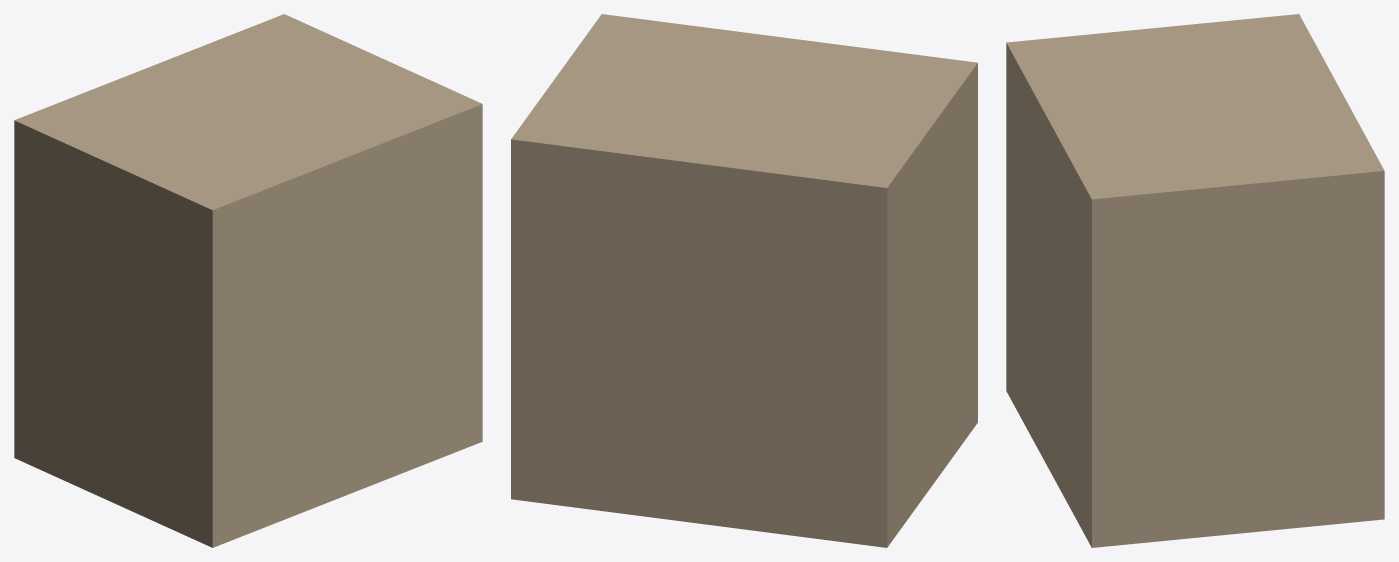
Rendered from bld_107625362.dae.
The picture shows the model from 3 angles, left to right: view 1: azimuth 30°, elevation 25°; view 2: azimuth 150°, elevation 25°; view 3: azimuth 270°, elevation 25°; orthographic projection. The views are drawn at different scales.
Visible parts, largest first — view 1: bld_107625362; view 2: bld_107625362; view 3: bld_107625362.
Boxes of the visible parts, x1=… form: bld_107625362: x1=14, y1=14, x2=482, y2=547; bld_107625362: x1=511, y1=14, x2=977, y2=547; bld_107625362: x1=1006, y1=14, x2=1384, y2=547.
Bounding box in the file's own units: 9.13 × 7.87 × 8.
